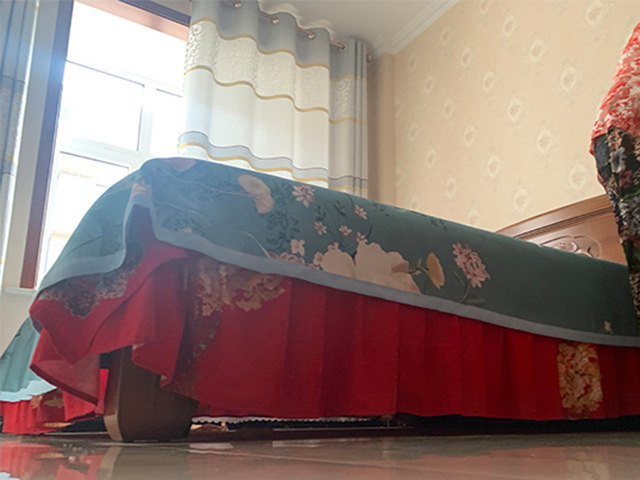bed: (1, 156, 640, 444)
